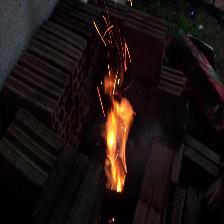fire: (96, 64, 136, 196)
